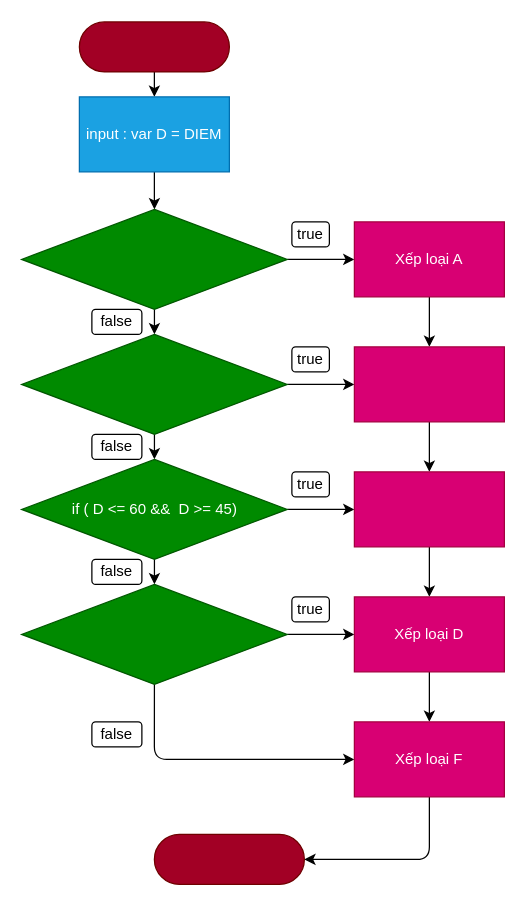
This 528x906 diagram has some shape labels left out. The shapes that lost their labels are listed below. From the top down, each one's centre as x and y in pixels, then its label:
At point 153,46: "START".
At point 153,258: "if ( D <= 100 && D >= 75)".
At point 153,383: "if ( D <= 75 && D >= 60)".
At point 428,384: "Xếp loại B".
At point 428,509: "Xếp loại C".
At point 153,633: "if ( D <= 45 && D >= 35)".
At point 228,858: "STOP".
